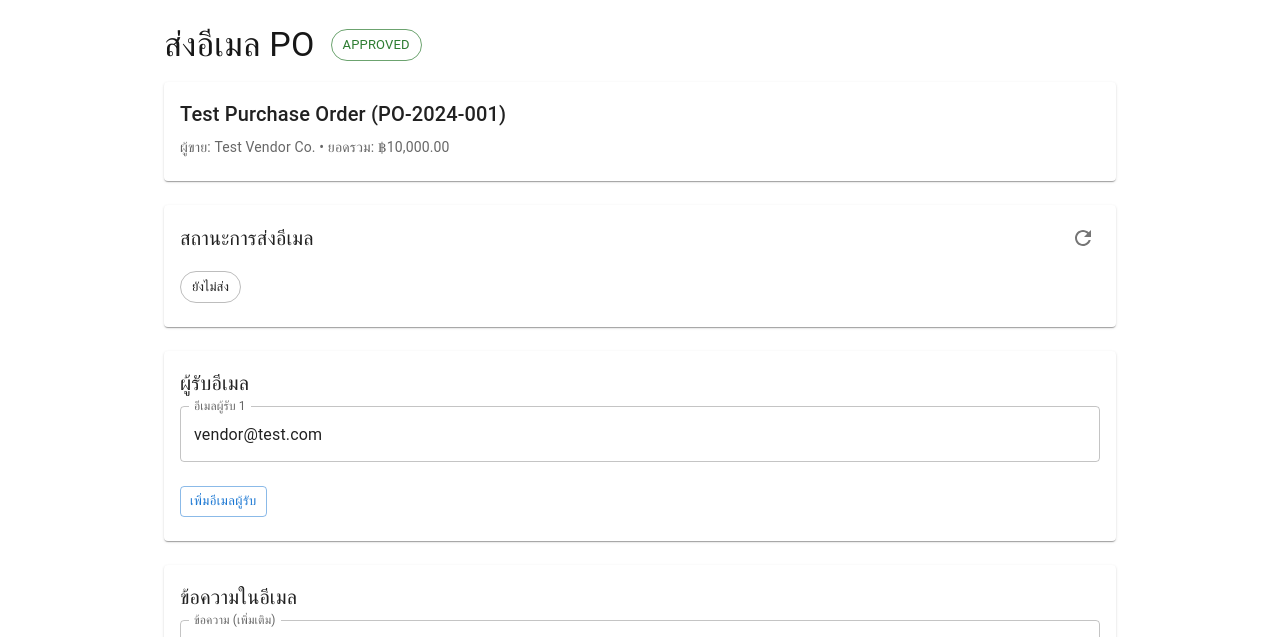
it: POEmailForm › Form Fields › allows removing additional email recipients
Expected: the field showing "vendor@test.com" is shown, 180,406 -> 1100,462
Note: Add second email
Click the button "เพิ่มอีเมลผู้รับ". click: [223, 501]
box: 180,486 -> 267,517
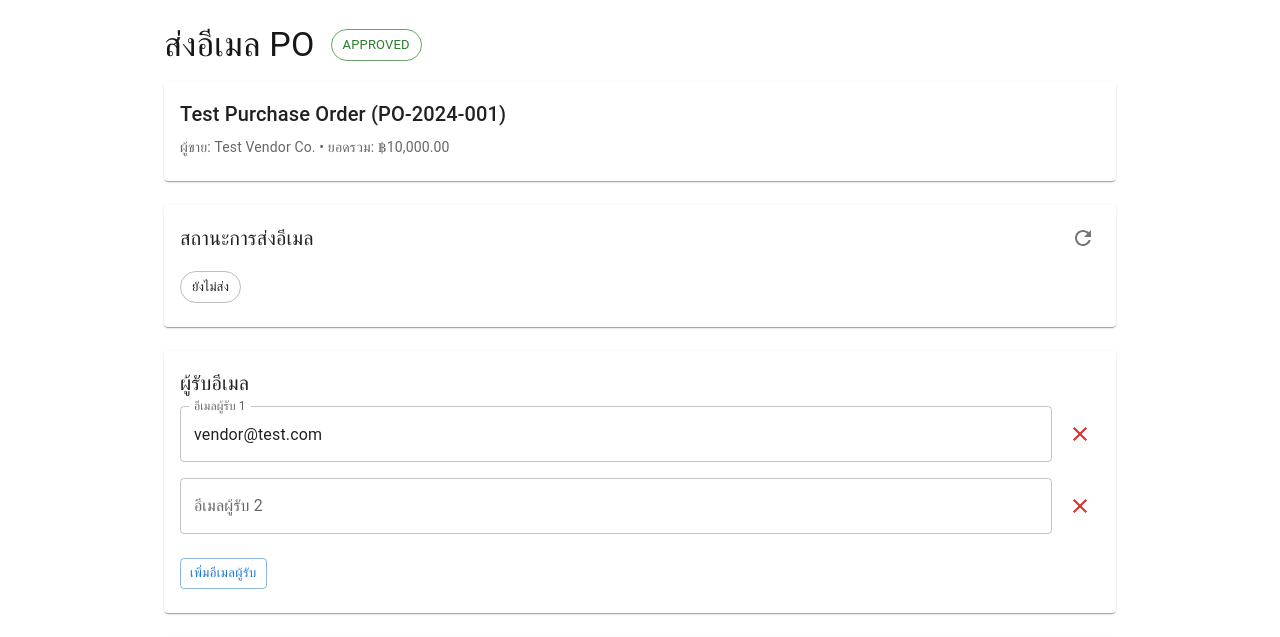
Expected: the field labelled "อีเมลผู้รับ 2" is shown, 180,478 -> 1052,534
Click the button without text in the row of "อีเมลผู้รับ 1". click: [1080, 434]
box: 1060,406 -> 1100,462
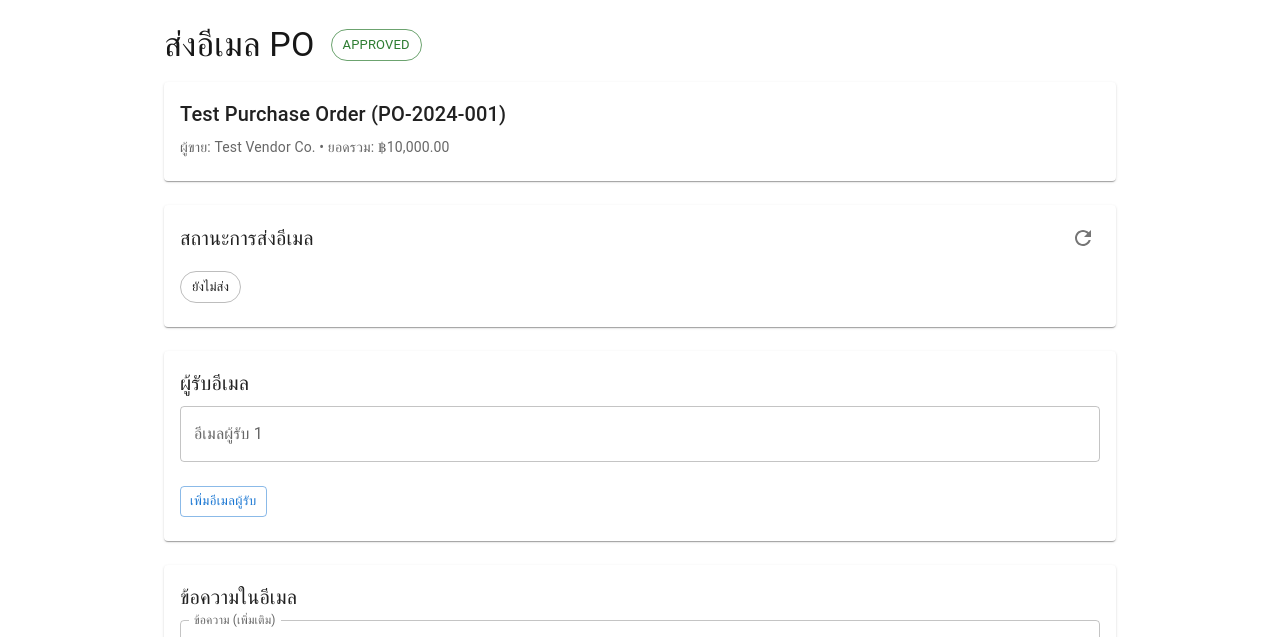
Expected: the label labelled "อีเมลผู้รับ 2" is gone
